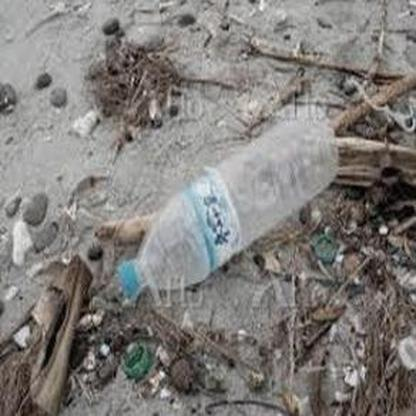plastic bottle: (115, 113, 338, 290)
